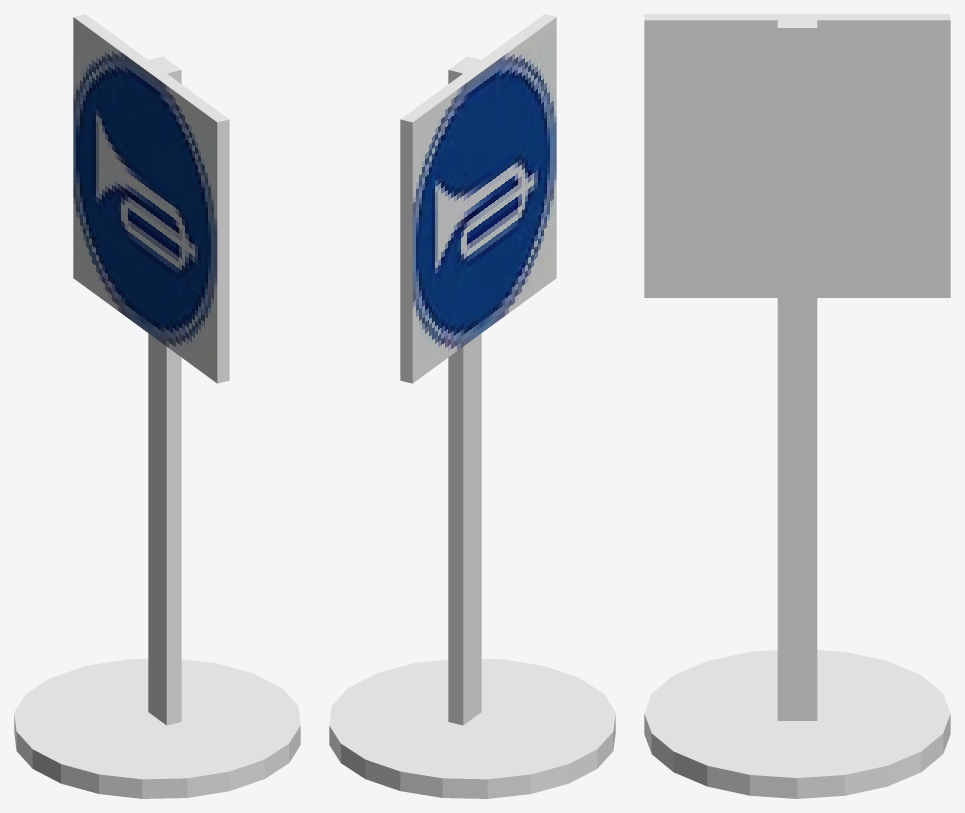
Rendered from SignHorn.dae.
3 views of the same model, side by side, from view 1: azimuth 30°, elevation 25°; view 2: azimuth 150°, elevation 25°; view 3: azimuth 270°, elevation 25° (orthographic). The views are drawn at different scales.
Parts seen in each view (by area): view 1: SignHorn; view 2: SignHorn; view 3: SignHorn.
Boxes of the visible parts, <box> form: SignHorn: <box>14,14,300,798</box>; SignHorn: <box>329,14,615,798</box>; SignHorn: <box>644,14,950,798</box>.
Size of the model in its own units: 0.07 by 0.07 by 0.18.
